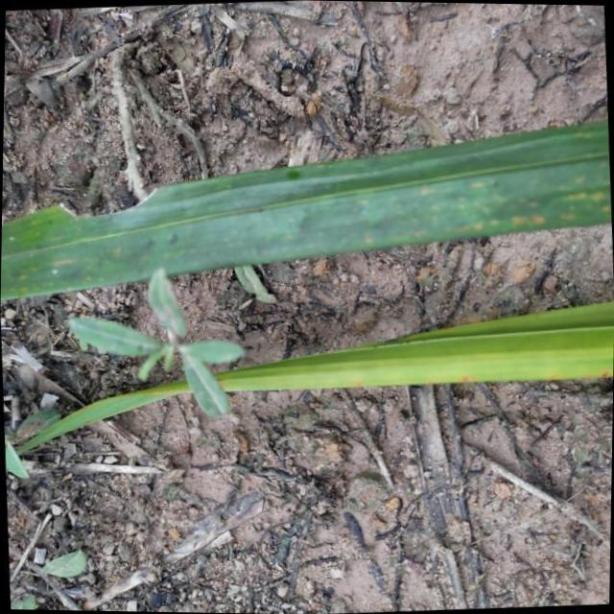nitrogen: (14, 299, 614, 448)
